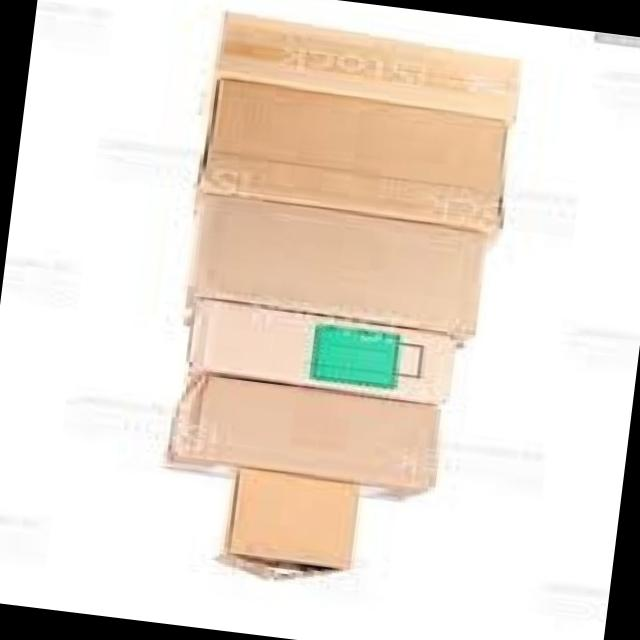cardboard paper: (169, 16, 519, 579), (206, 82, 505, 232), (195, 197, 486, 339), (172, 378, 440, 496), (190, 301, 454, 405), (220, 471, 359, 581)
